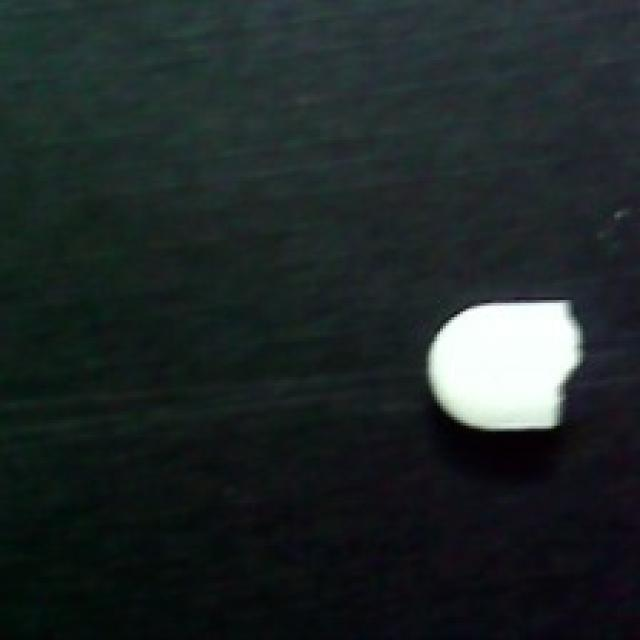defected: (417, 297, 586, 440)
